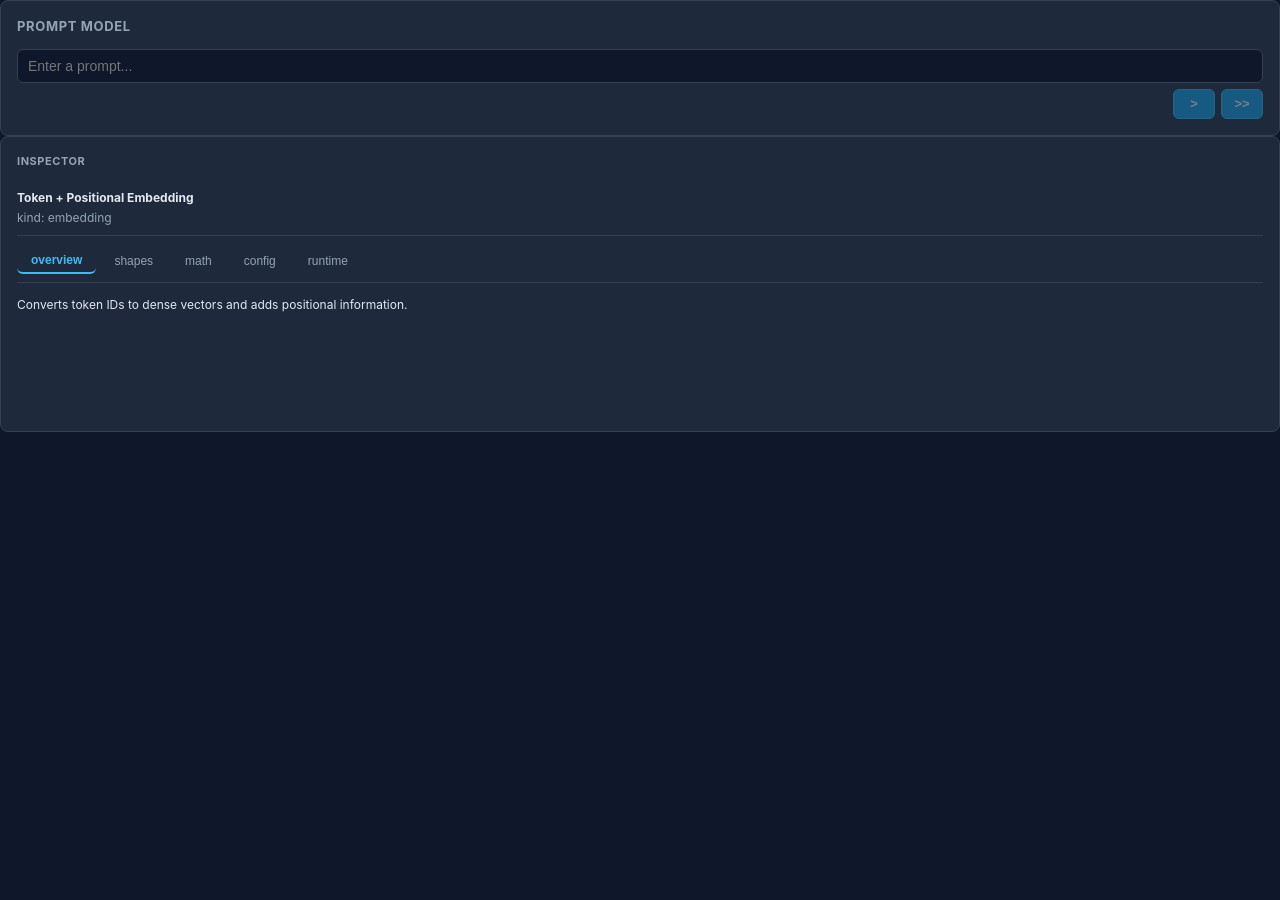
Test: PausePrompt + Inspector integration › Inspector reflects the new snapshot immediately after one Step click, no second interaction needed
Type "hello" into the field with placeholder "Enter a prompt..." at (640, 66), box [17,48,1263,82]
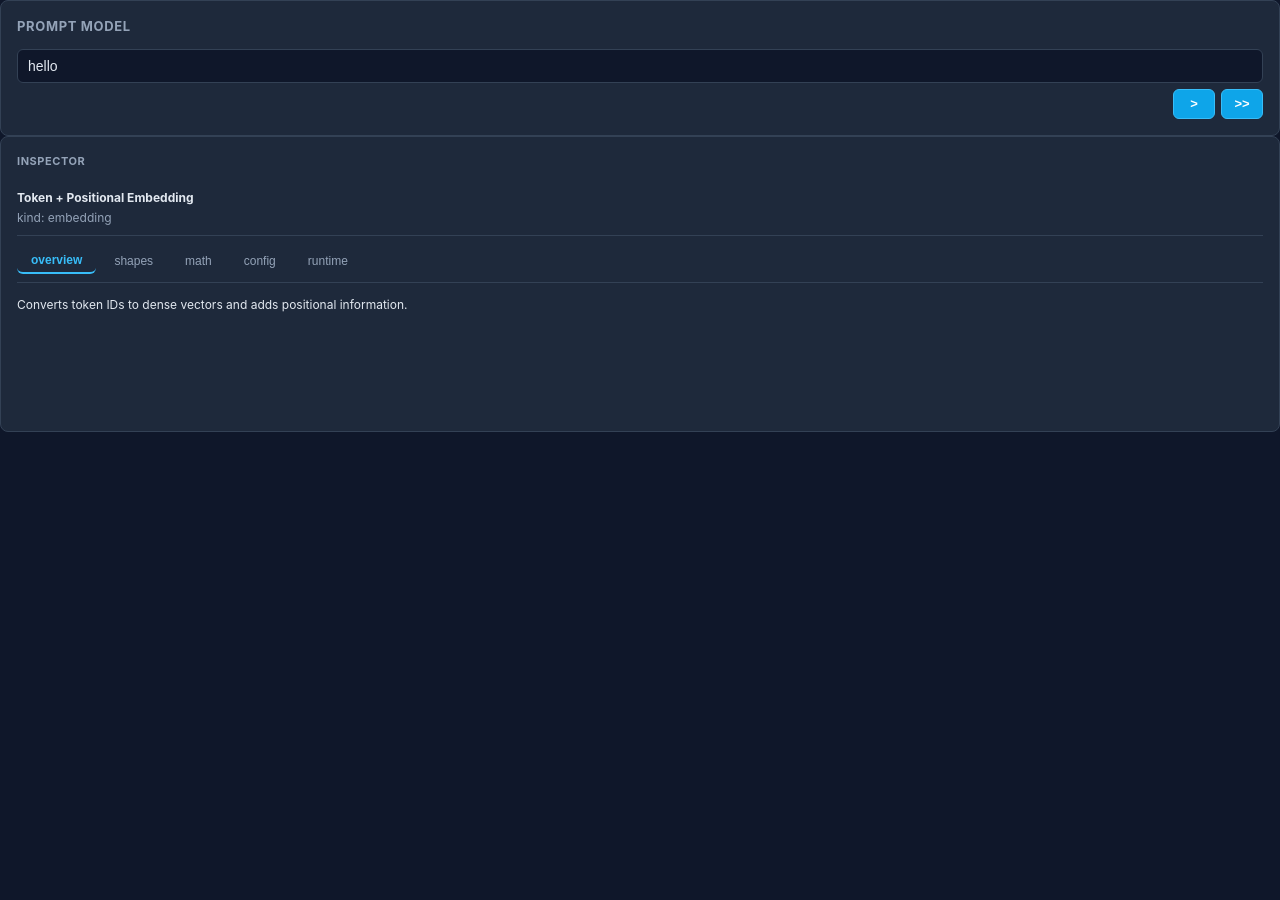
Click the button ">" at (1194, 104), box [1173,88,1215,118]
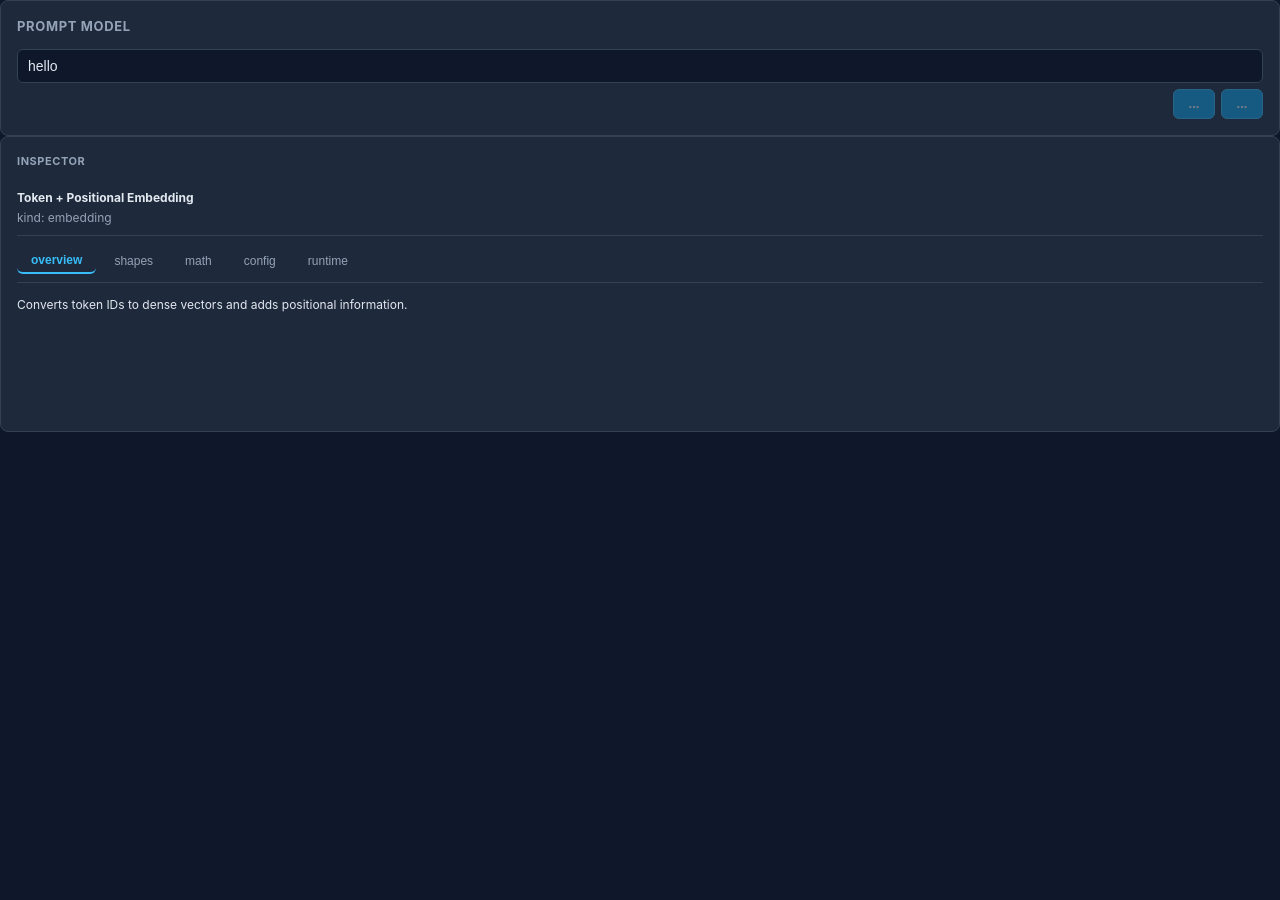
Click the button "runtime" at (328, 261), box [294,248,362,274]
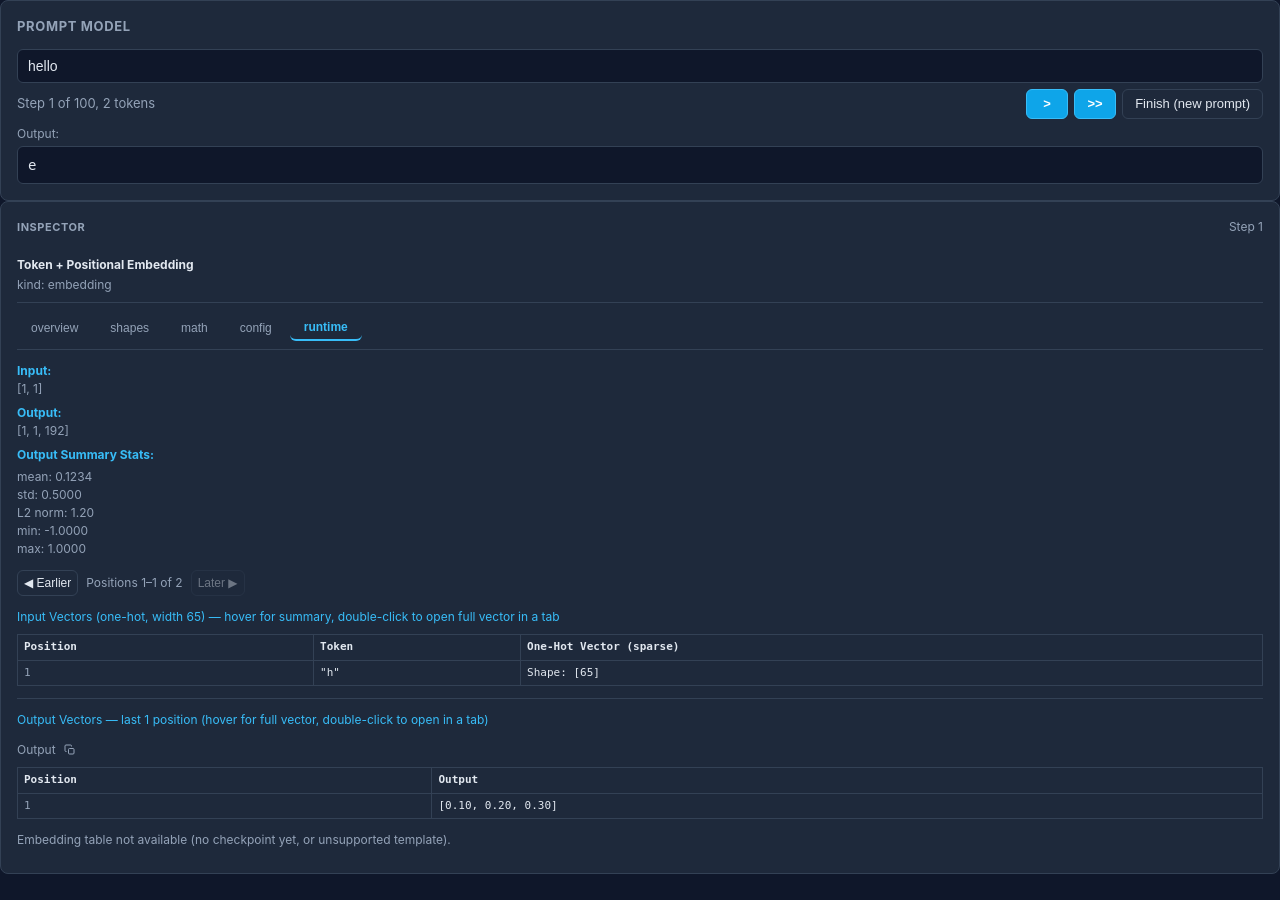
Expected: the text "mean: 0.1234" is shown, [17,469,92,484]
